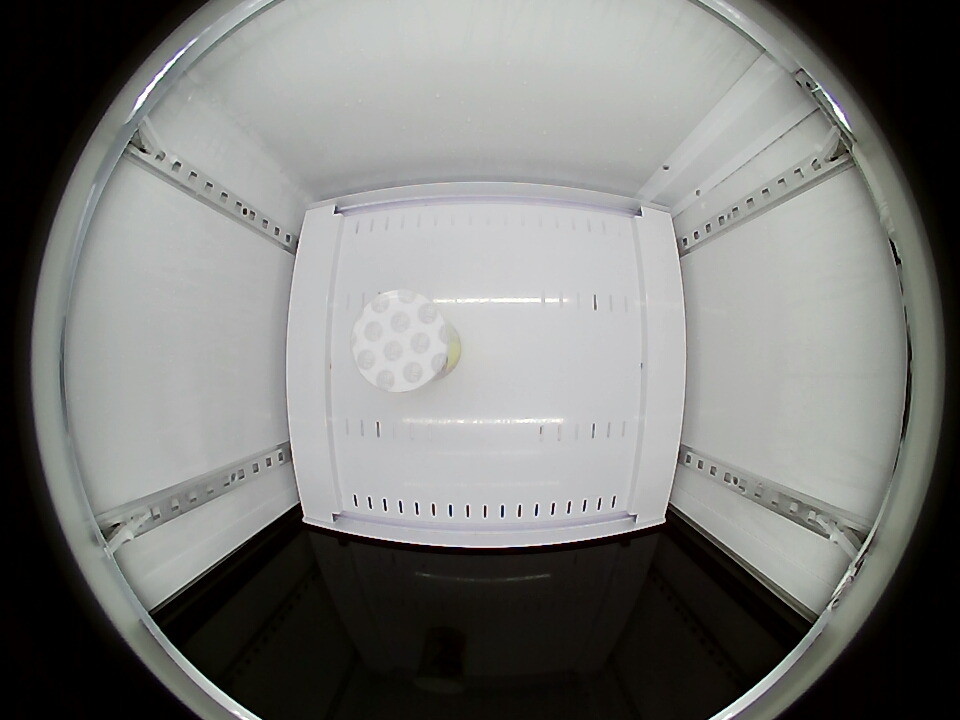kebike: (353, 290, 455, 393)
